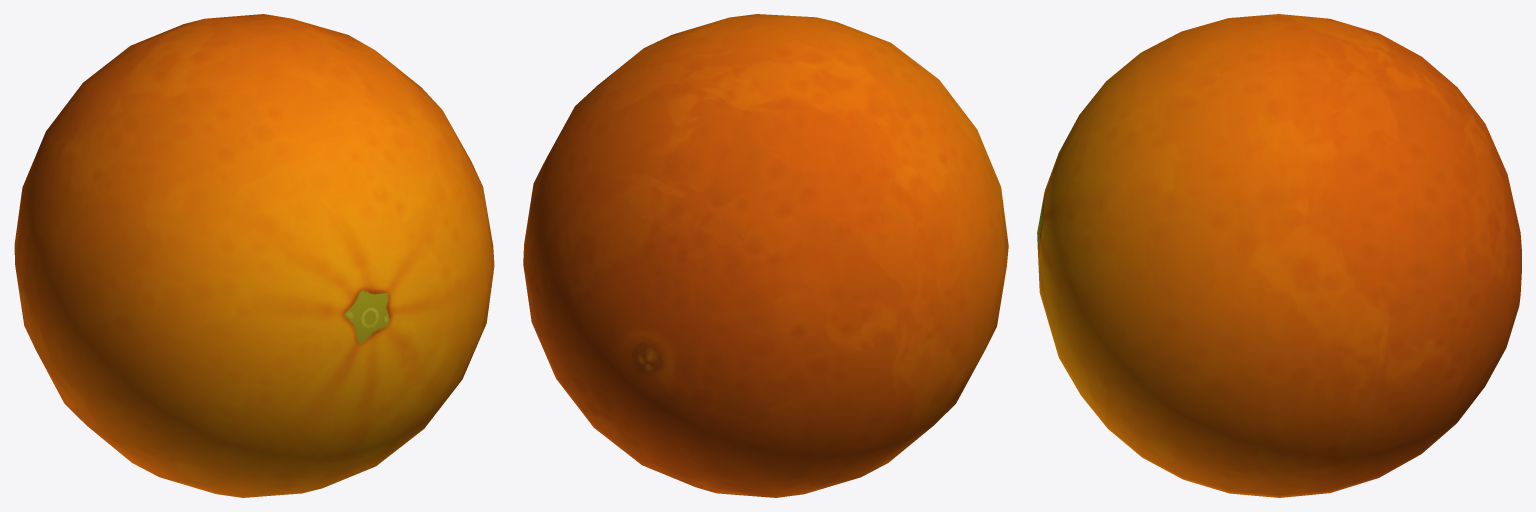
File: SM_Orange.fbx
The picture shows the model from 3 angles, left to right: view 1: azimuth 30°, elevation 25°; view 2: azimuth 150°, elevation 25°; view 3: azimuth 270°, elevation 25°; orthographic projection.
Visible parts, largest first — view 1: SM_Orange; view 2: SM_Orange; view 3: SM_Orange.
Part boxes in pixels (<box>): SM_Orange: <box>14,14,494,497</box>; SM_Orange: <box>523,14,1008,497</box>; SM_Orange: <box>1037,14,1521,497</box>.
Size of the model in its own units: 17.5 by 17.65 by 17.57.
Materials: 1 (1 with a texture image).
